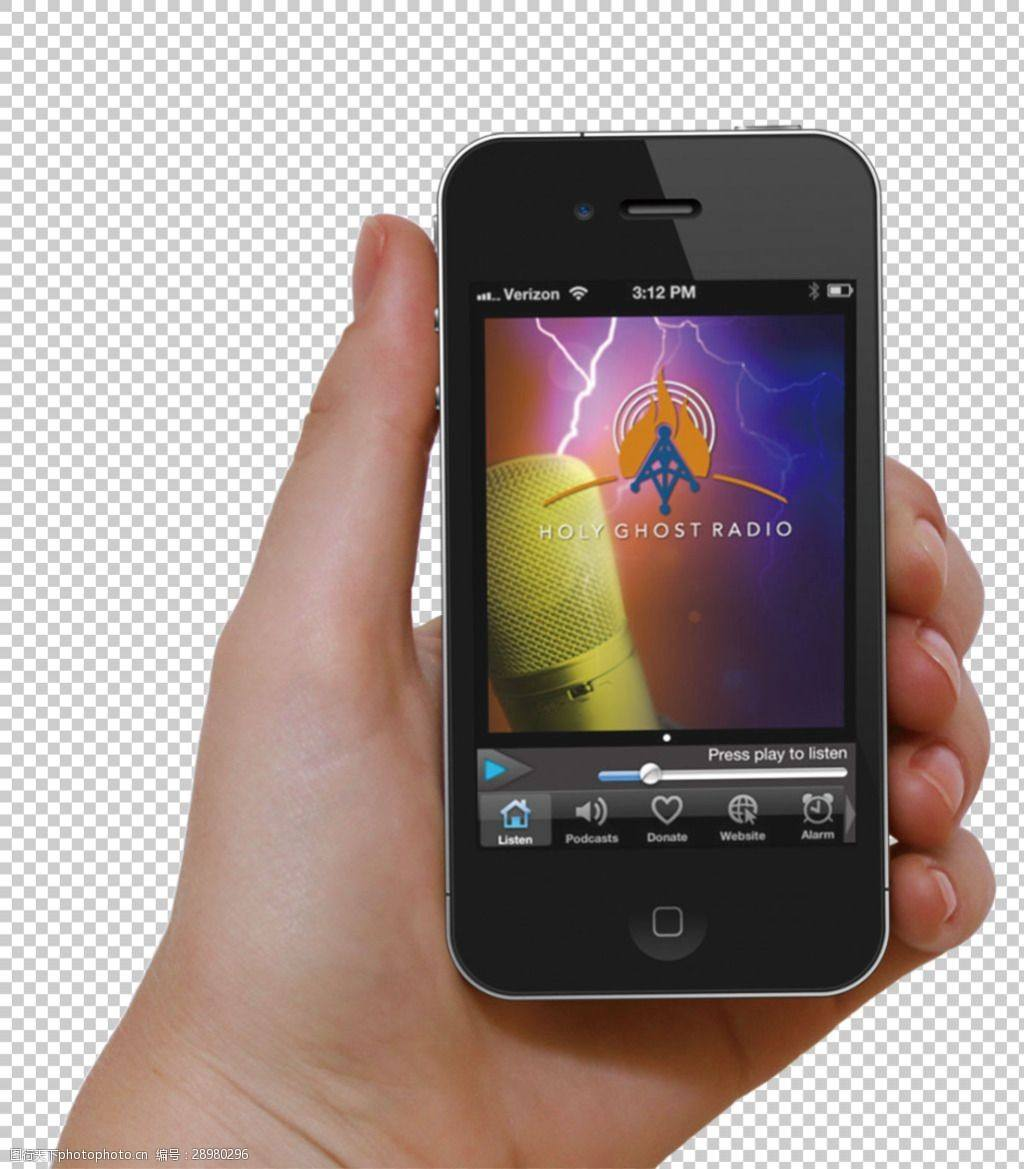phone: (227, 121, 1008, 1131)
